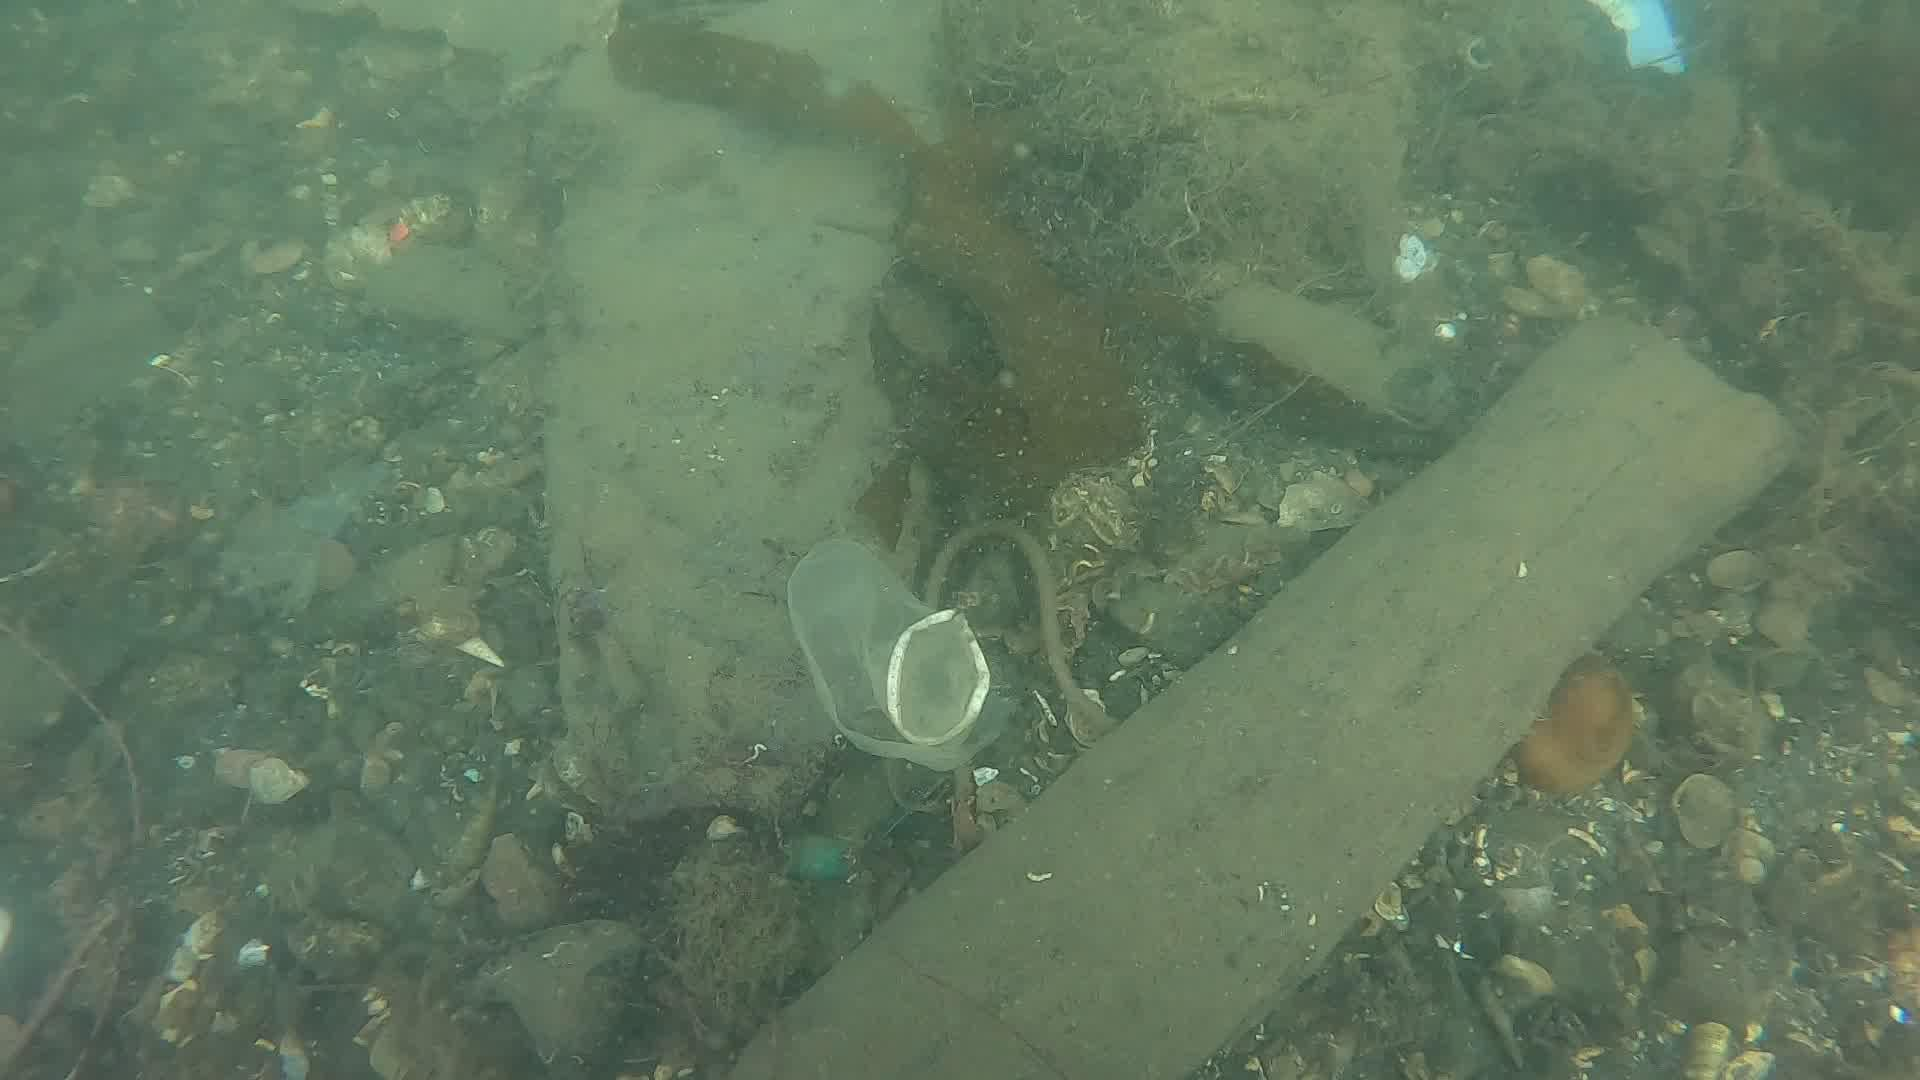wood: (727, 309, 1797, 1080)
